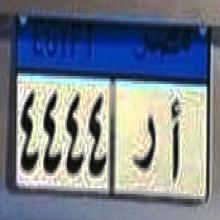4: (85, 89, 107, 183), (63, 86, 85, 180), (18, 84, 41, 170), (41, 86, 63, 175)
alif: (168, 91, 184, 186)
raa: (131, 107, 157, 182)
